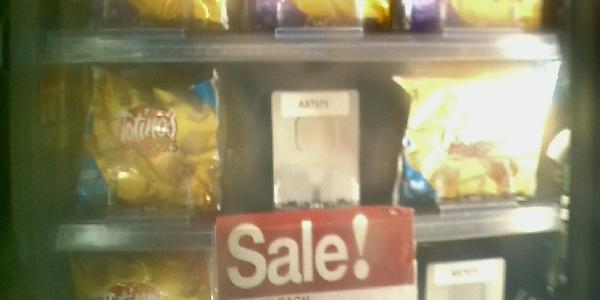icecream: (67, 57, 230, 237), (404, 59, 551, 221)
